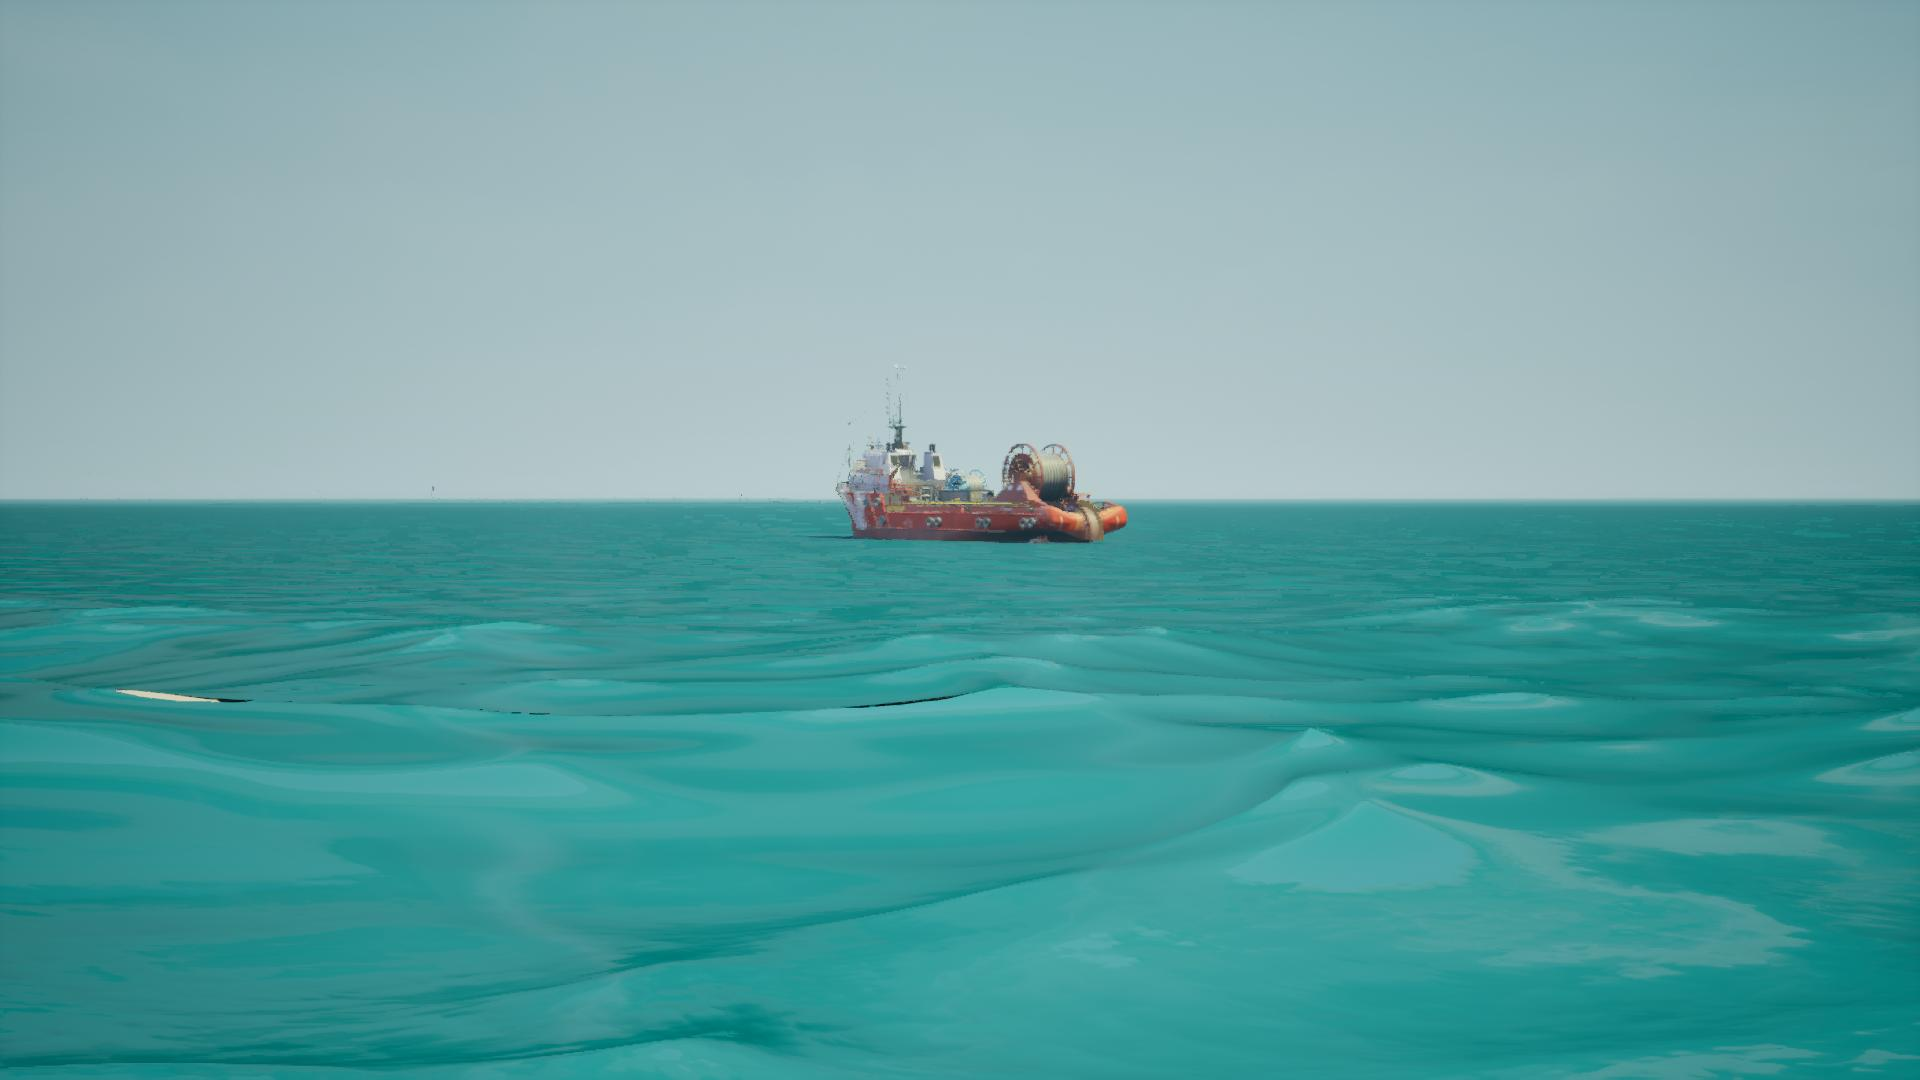Tug Boat: (829, 368, 1122, 546)
